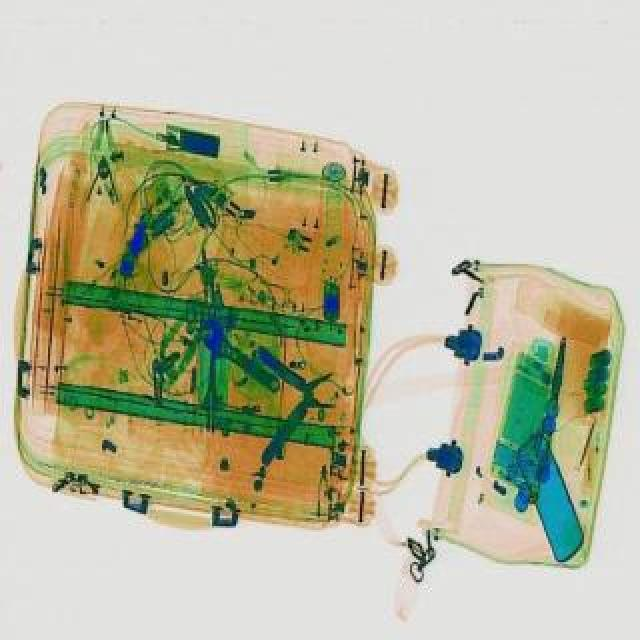scissors: (186, 308, 290, 396)
